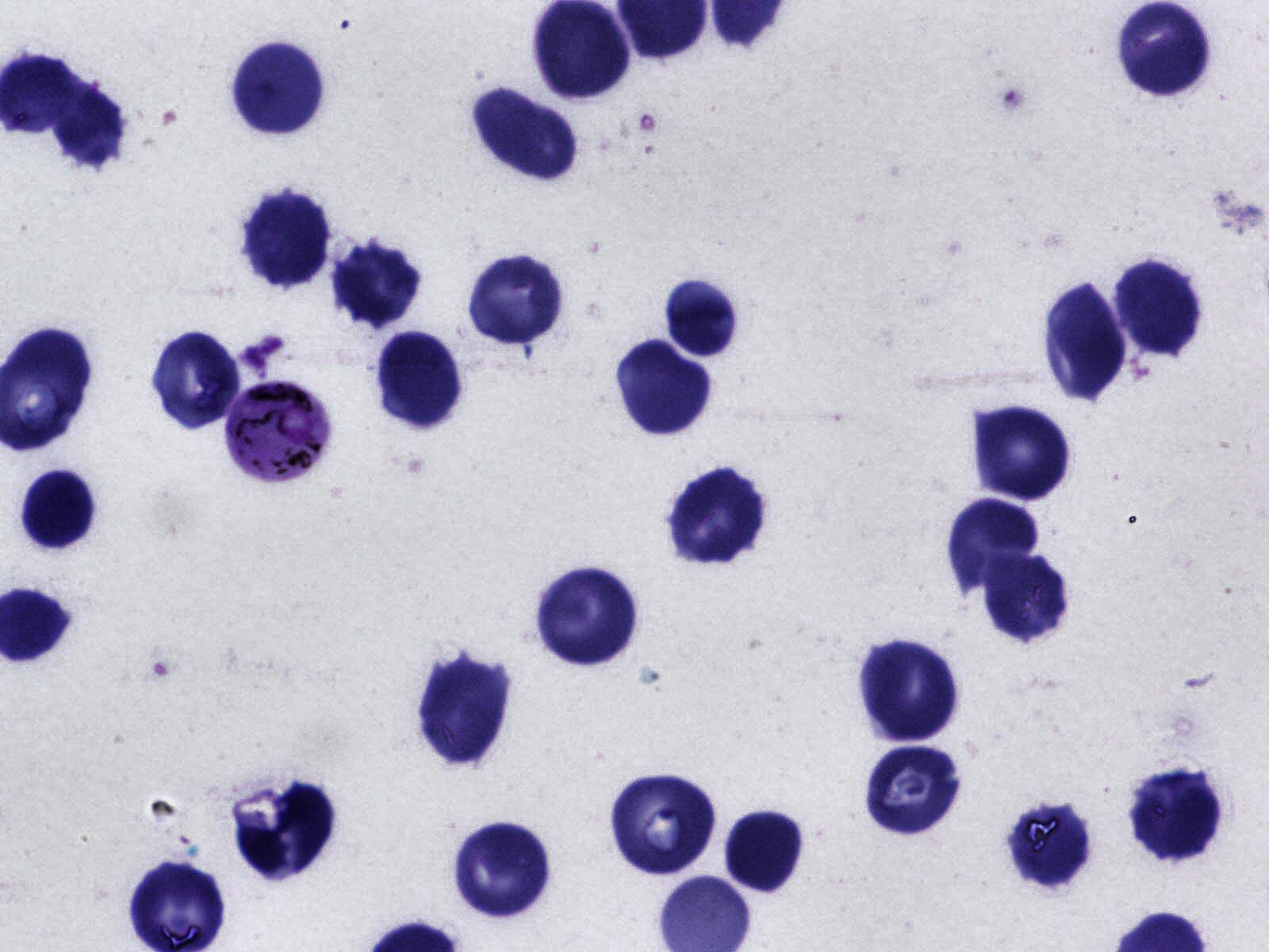Infected: (227, 379, 334, 487)
Uninfected: (606, 777, 717, 877), (662, 471, 775, 566), (534, 571, 638, 671), (972, 402, 1072, 505), (452, 821, 552, 921), (863, 639, 961, 741), (463, 255, 567, 349), (1042, 286, 1125, 399), (1118, 0, 1214, 96), (420, 653, 508, 757), (617, 340, 711, 436), (377, 328, 466, 428), (477, 88, 573, 179), (233, 42, 323, 136), (1133, 772, 1223, 862), (983, 552, 1072, 643), (245, 189, 331, 283), (868, 745, 957, 835), (153, 336, 240, 428), (1117, 259, 1200, 355), (1007, 798, 1094, 888), (45, 81, 127, 174), (944, 505, 1037, 586), (335, 240, 422, 325), (21, 467, 94, 555), (725, 809, 802, 892), (665, 281, 742, 363), (275, 778, 339, 874)
